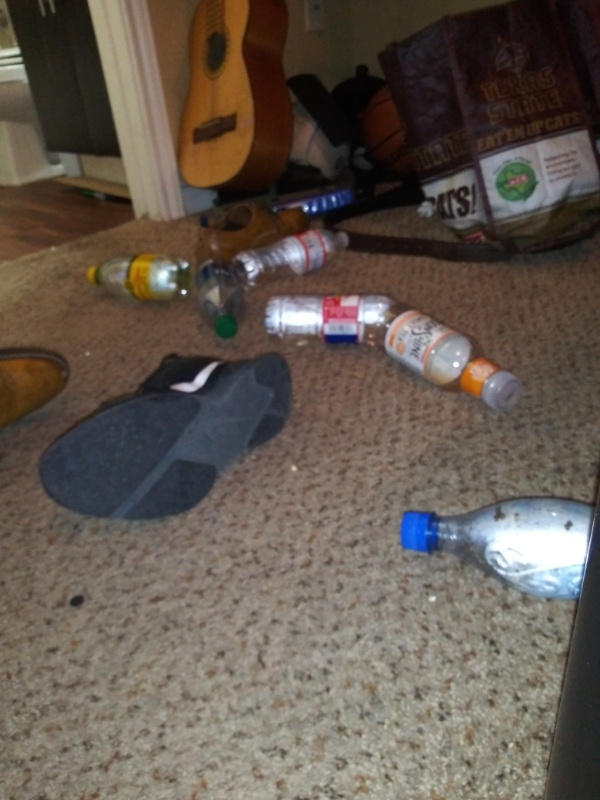bottle: (395, 496, 600, 607), (364, 297, 528, 415), (255, 287, 434, 343), (228, 221, 356, 294), (79, 249, 196, 305), (187, 251, 248, 340)
